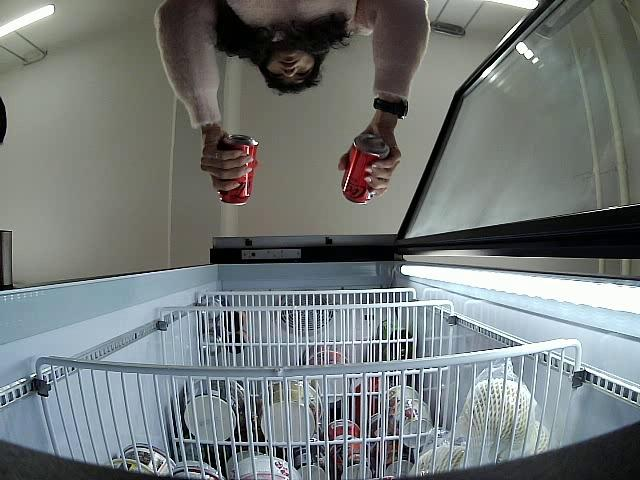00_hand: (338, 129, 401, 197), (200, 133, 254, 191)
11_cocaColaZero: (341, 135, 389, 205), (218, 133, 257, 207)
